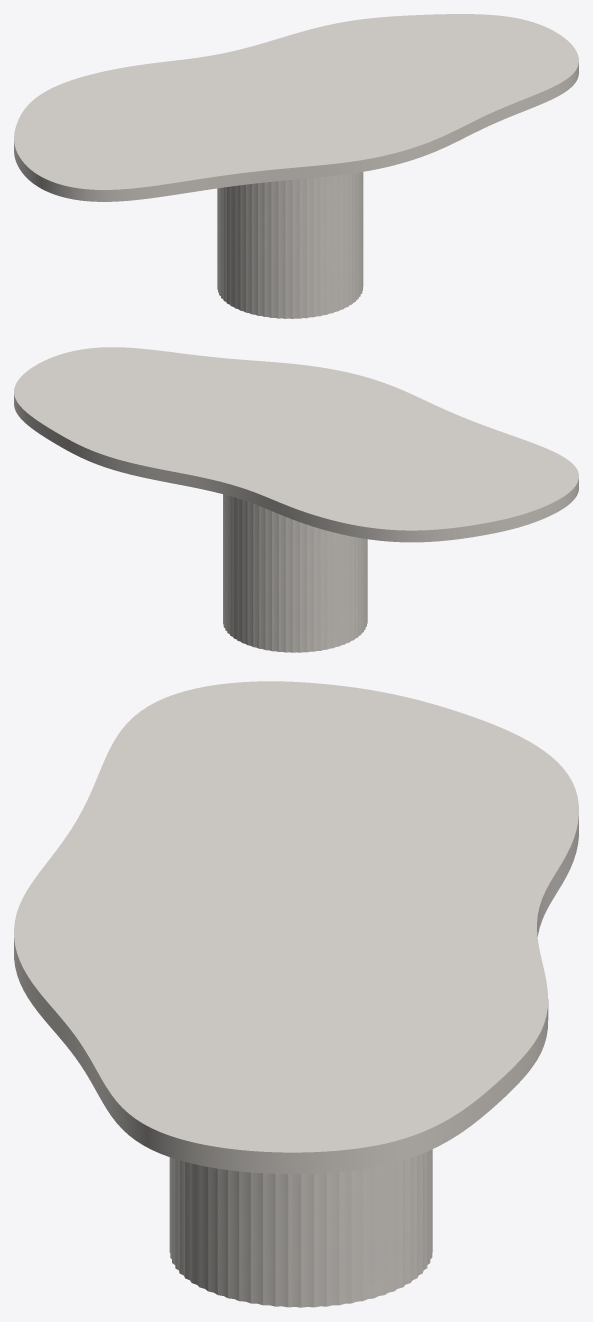
Rendered from pearlwhite_toplast_standard_ripple.glb.
3 renders of one model, top to bottom at view 1: azimuth 30°, elevation 25°; view 2: azimuth 150°, elevation 25°; view 3: azimuth 270°, elevation 25°, orthographic. The views are drawn at different scales.
Parts seen in each view (by area): view 1: standard_toplast, ripple; view 2: standard_toplast, ripple; view 3: standard_toplast, ripple.
Part boxes in pixels (box(x1,y1,x2,y2)): standard_toplast: box(14, 14, 578, 201); ripple: box(217, 172, 363, 318); standard_toplast: box(14, 347, 578, 542); ripple: box(223, 494, 367, 652); standard_toplast: box(14, 681, 578, 1173); ripple: box(169, 1149, 432, 1307).
Bounding box in the file's own units: 7.5 × 2.5 × 3.8.
1 material, 1 textured.
